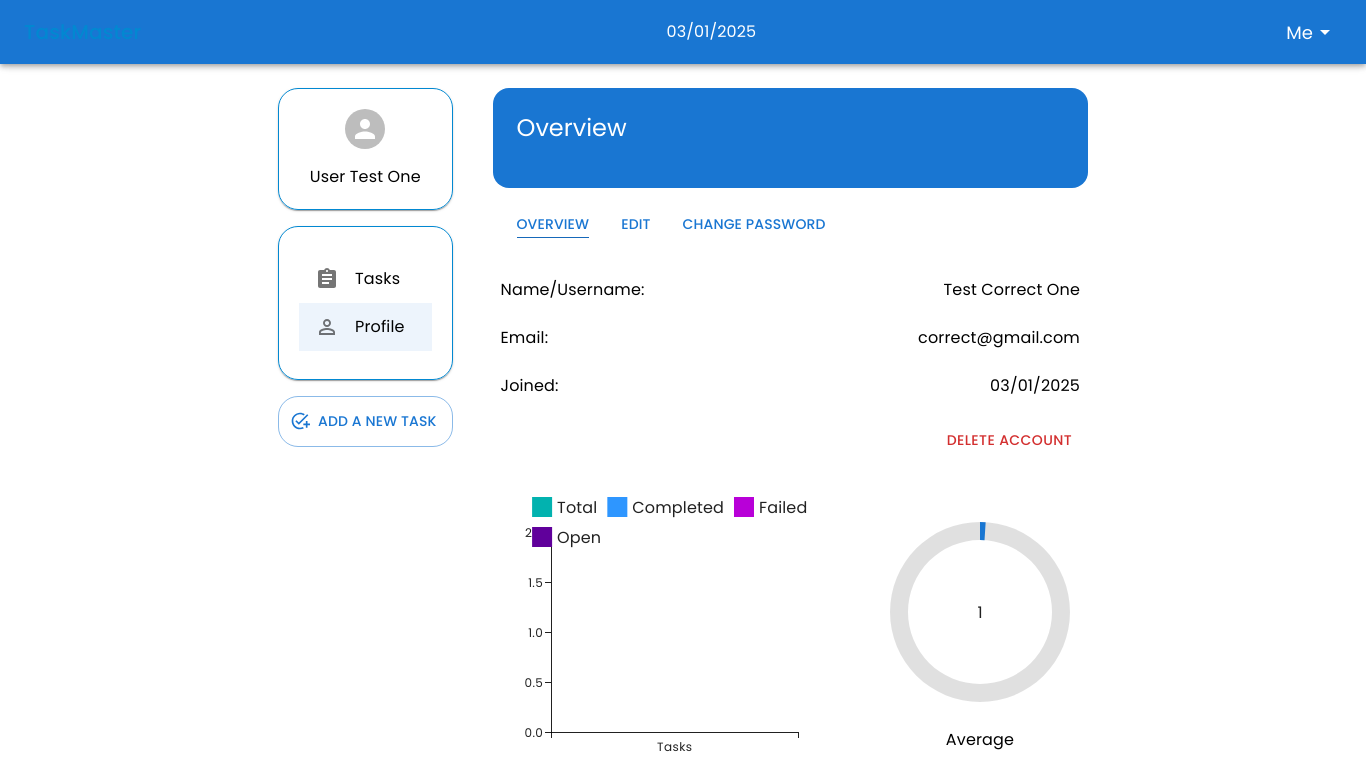
Test: Delete profile modal component testing › Should display delete profile modal on english language
Click the button with aria-label "deleteModalProfileBtn": (1009,440) [939,422,1080,458]
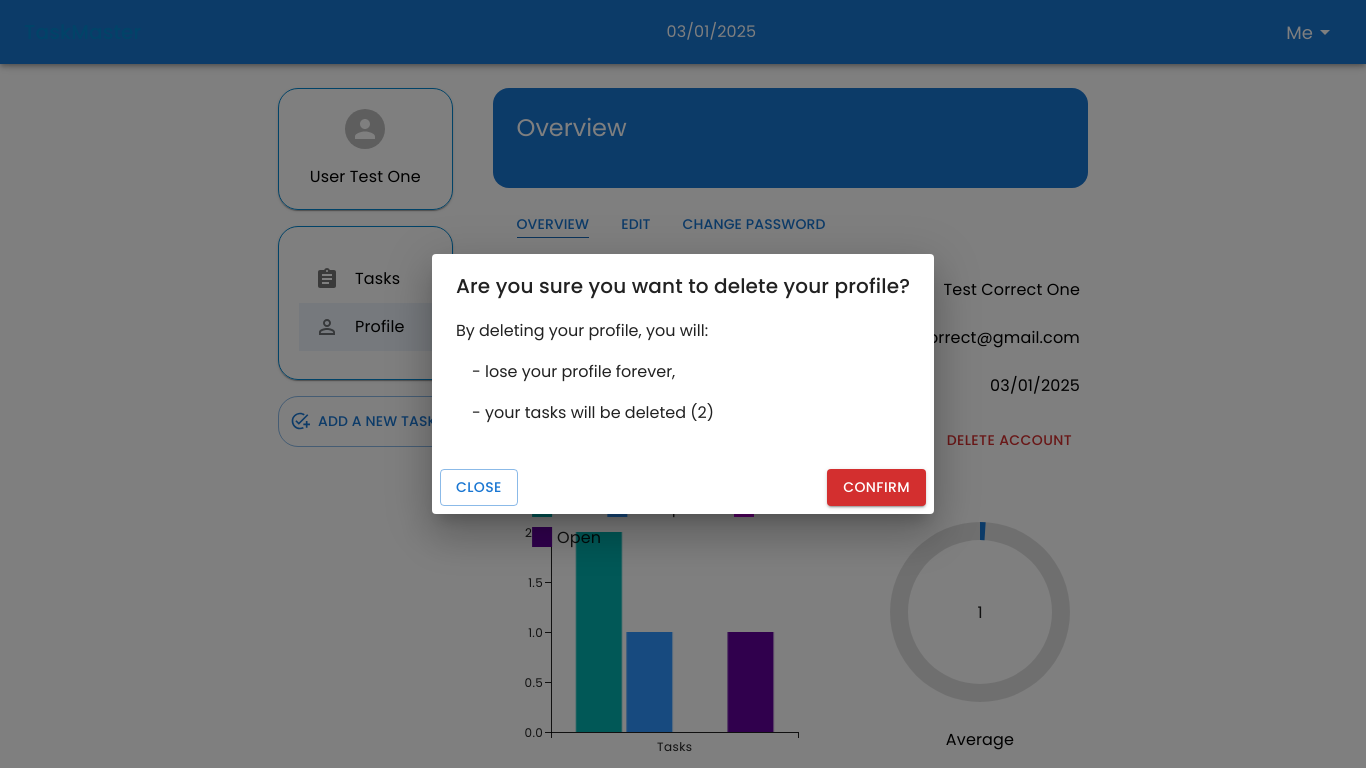
Now the heading "Are you sure you want to delete your profile?" is shown, box [456,272,910,300]
Now the text "By deleting your profile, you will:" is shown, box [456,319,708,342]
Now the list item "- lose your profile forever," is shown, box [472,360,675,383]
